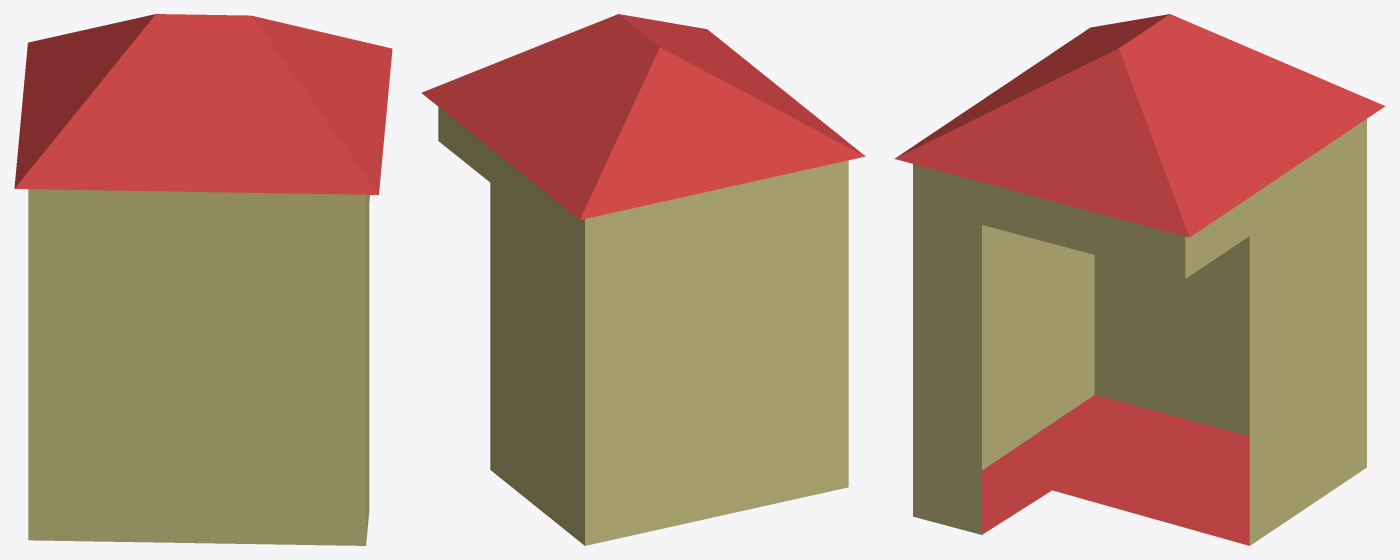
3 renders of one model, left to right at view 1: azimuth 30°, elevation 25°; view 2: azimuth 150°, elevation 25°; view 3: azimuth 270°, elevation 25°, orthographic. The views are drawn at different scales.
Visible parts, largest first — view 1: group_5, group_3, group_4; view 2: group_5, group_3, group_4; view 3: group_5, group_3, group_6, group_4.
Boxes of the visible parts, left/top/right/bottom form: group_5: left=28, top=189, right=369, bottom=545; group_3: left=14, top=14, right=392, bottom=194; group_4: left=15, top=40, right=392, bottom=194; group_5: left=438, top=107, right=848, bottom=545; group_3: left=438, top=14, right=865, bottom=219; group_4: left=421, top=28, right=864, bottom=219; group_5: left=913, top=119, right=1366, bottom=545; group_3: left=900, top=14, right=1379, bottom=237; group_6: left=982, top=395, right=1249, bottom=545; group_4: left=894, top=27, right=1385, bottom=237.
Bounding box in the file's own units: 9.15 × 9.04 × 9.39.
